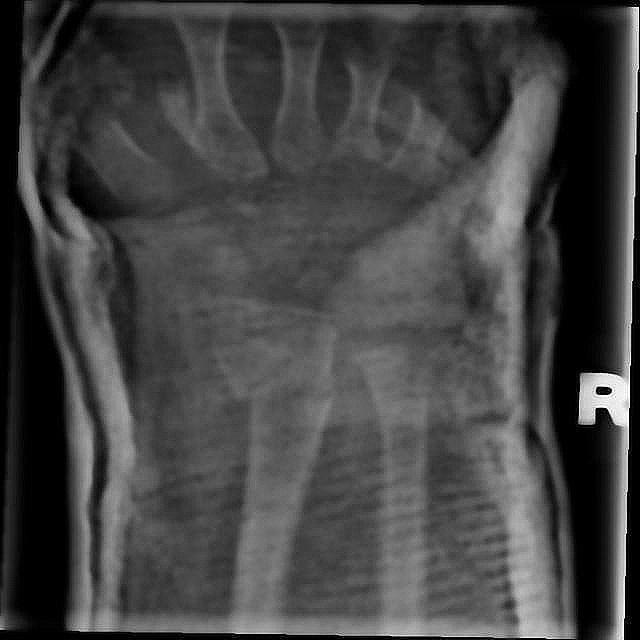bone: (230, 369, 338, 434)
